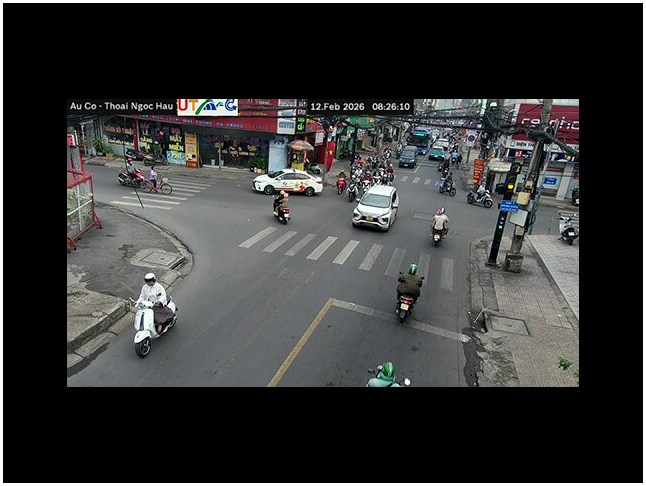car: (351, 184, 399, 233), (254, 169, 321, 197), (399, 147, 418, 169), (427, 147, 447, 160)
motorbike: (132, 296, 178, 357), (273, 192, 291, 224), (436, 174, 455, 196)
